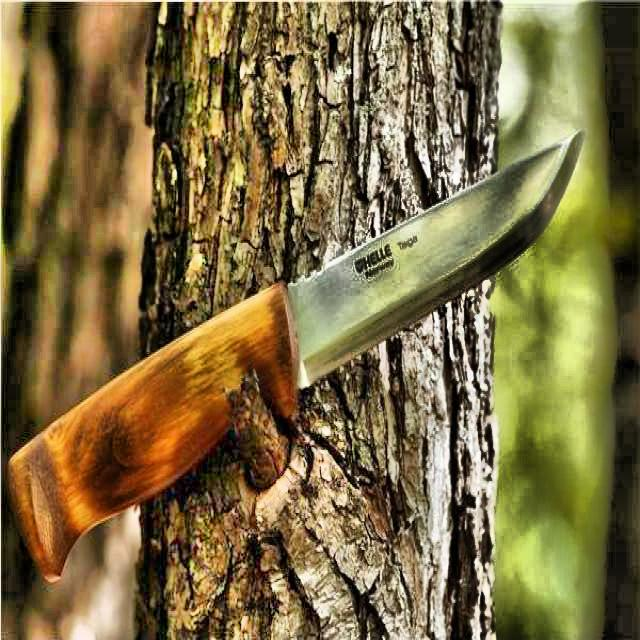knife: (10, 128, 583, 579)
